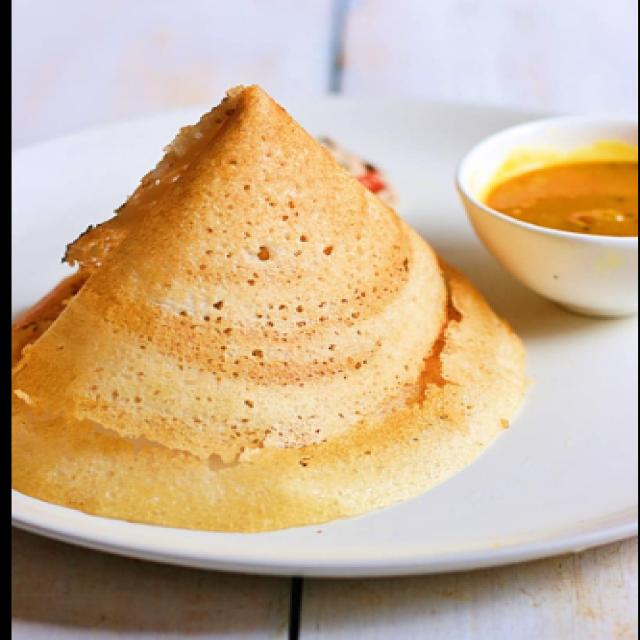dosa: (21, 86, 518, 514)
